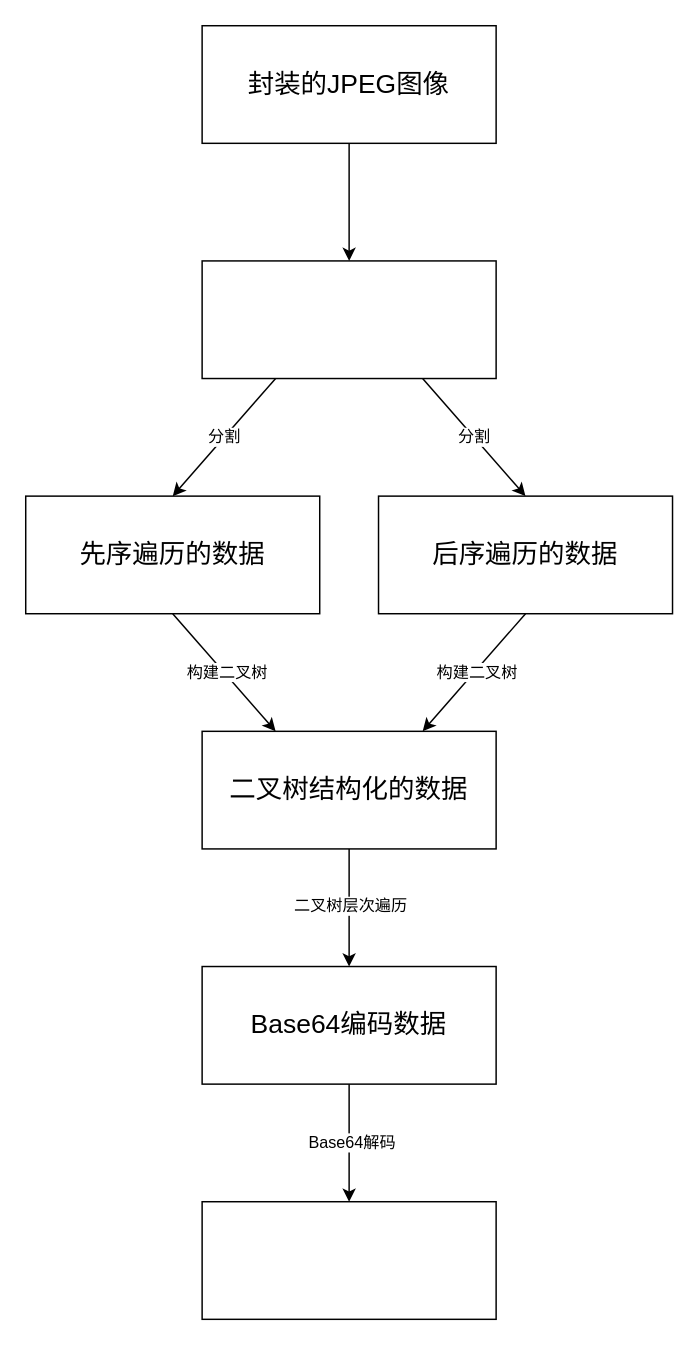
The diagram is 698 pixels wide and 1345 high, and some of its shapes have lost their labels. Each missing label, with the box of its shape:
探测器原始数据: (201, 1200, 496, 1319)
编码后的数据: (201, 259, 496, 379)
